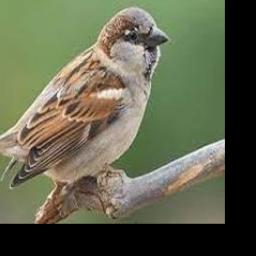Sparrow: (0, 7, 169, 190)
